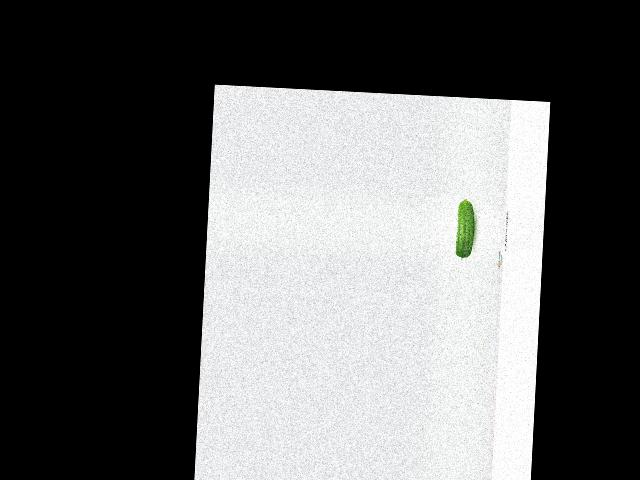cucumber: (455, 197, 475, 260)
